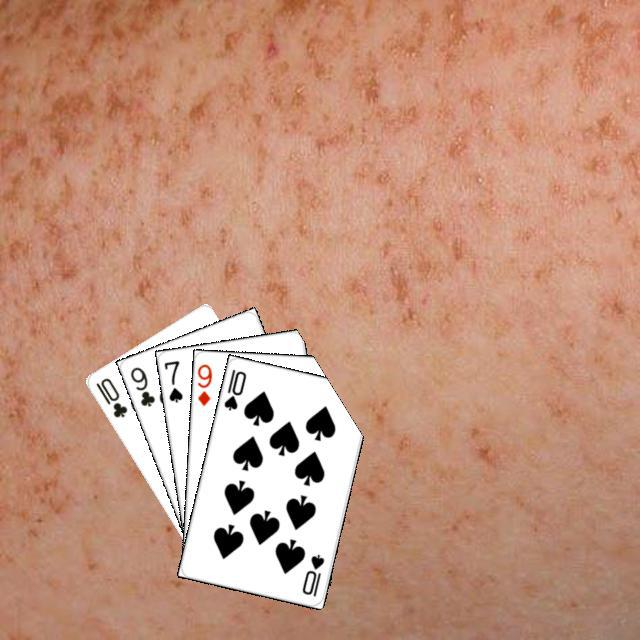10c: (91, 373, 129, 419)
10s: (219, 364, 248, 412), (297, 550, 326, 598)
7s: (159, 356, 184, 404)
9c: (125, 362, 157, 408)
9d: (193, 359, 214, 408)
